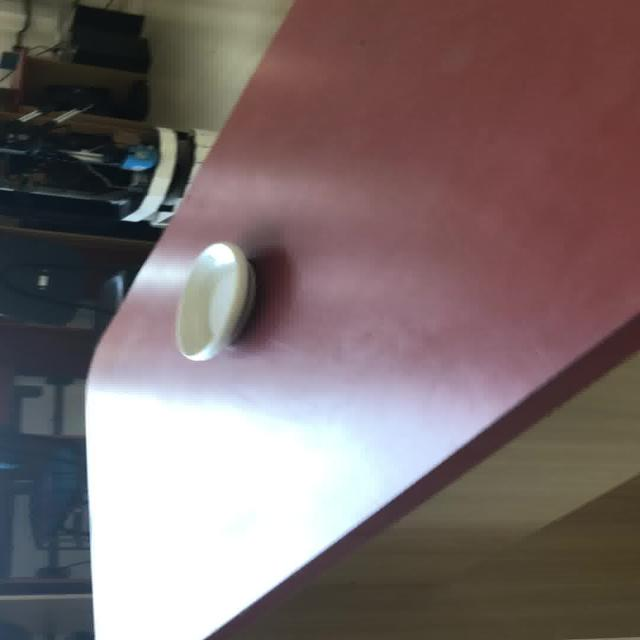plate: (173, 240, 256, 361)
